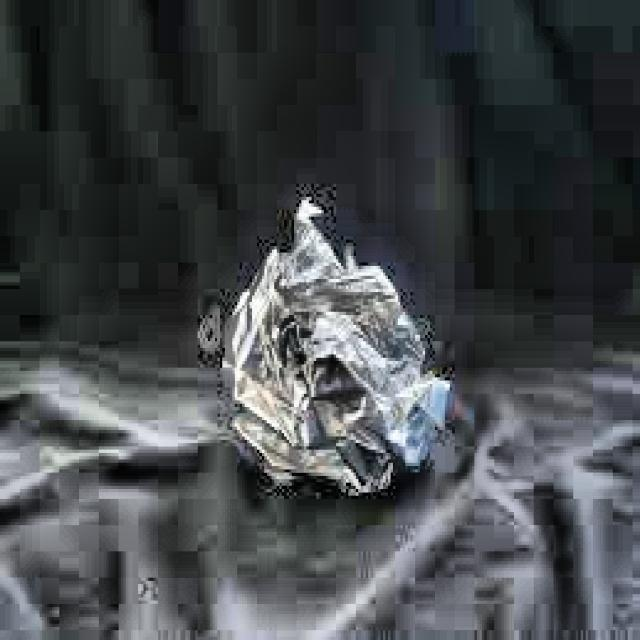Foil: (224, 186, 446, 522)
